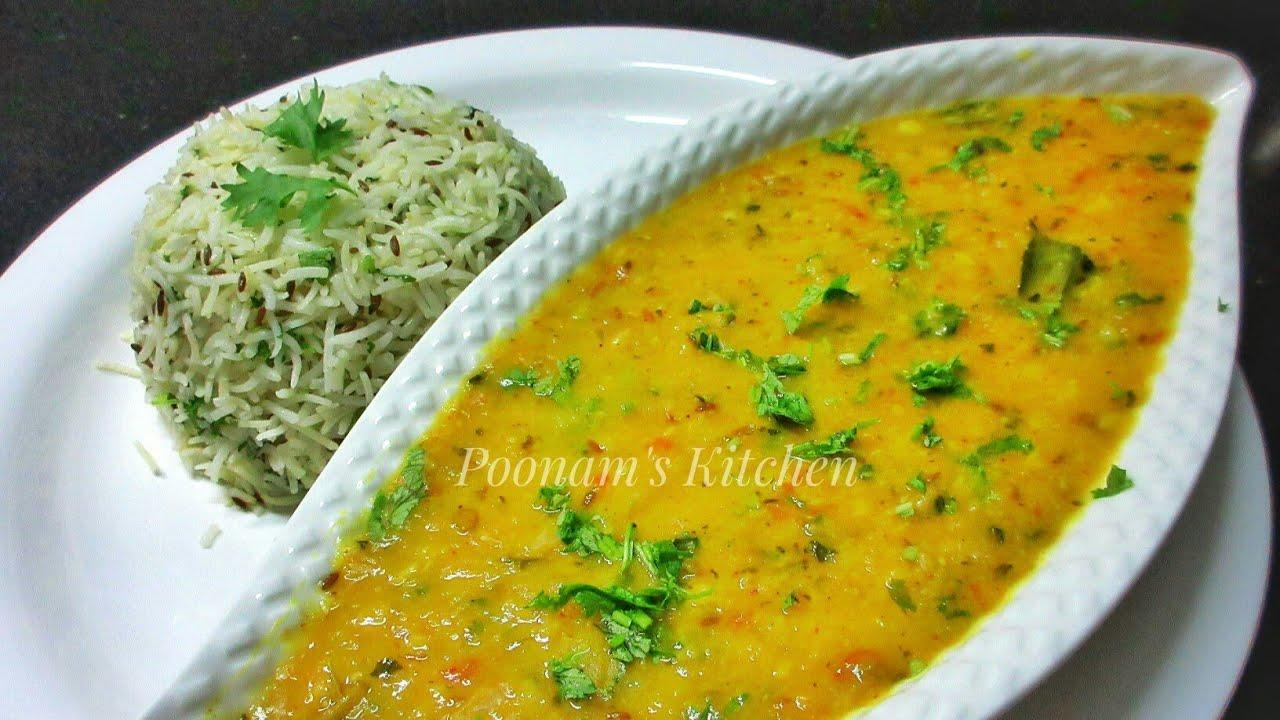dal: (260, 110, 1214, 719)
rice: (119, 76, 592, 489)
